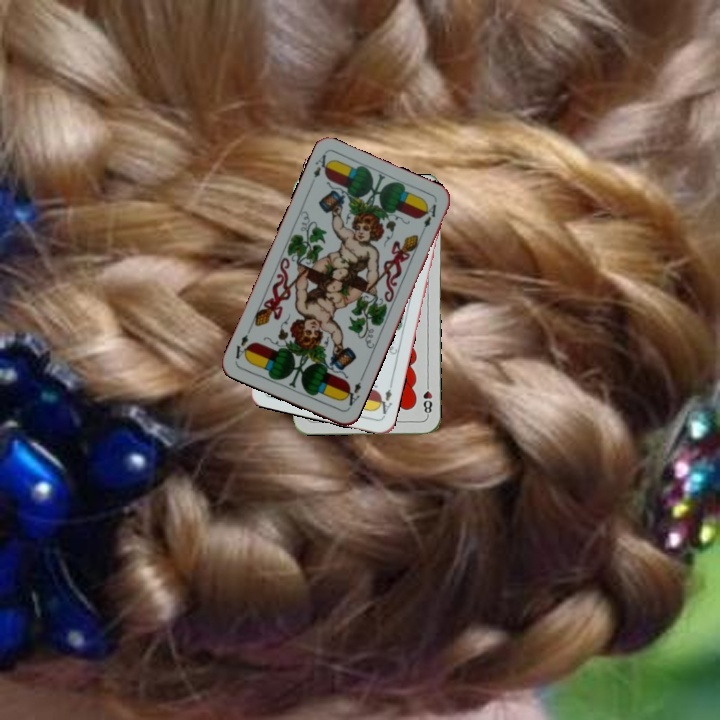EA: (373, 379, 396, 419), (309, 150, 334, 181), (339, 378, 364, 408)
H8: (419, 378, 435, 418)
